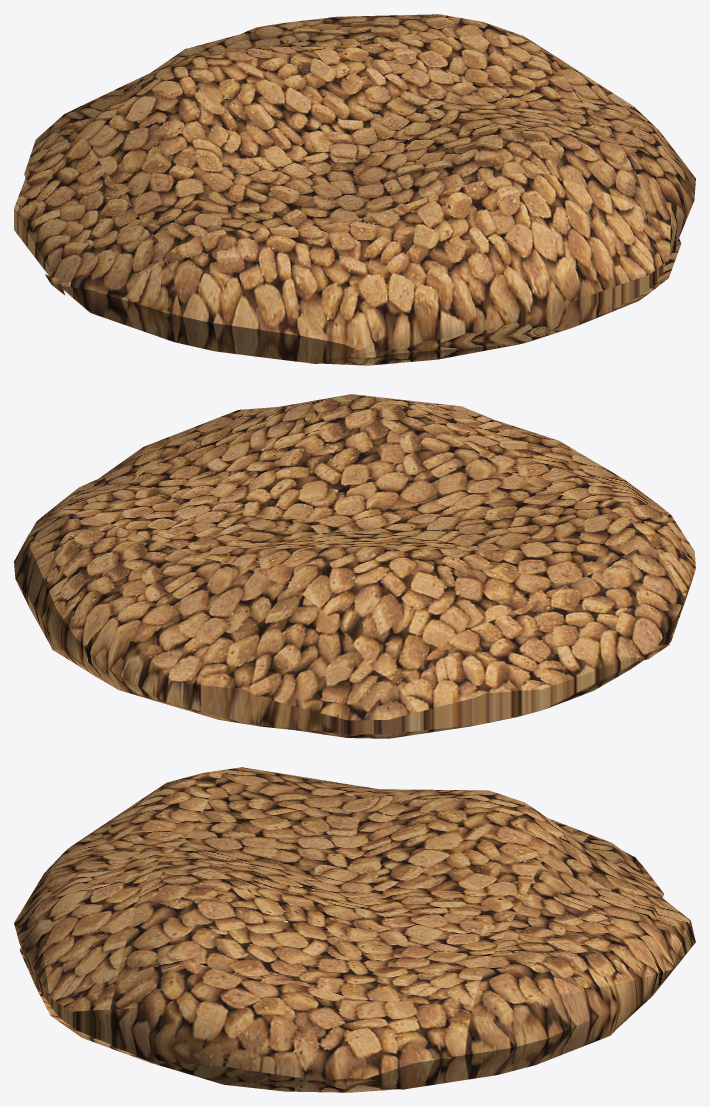
The model's file is CatDryFood.fbx.
The picture shows the model from 3 angles, top to bottom: view 1: azimuth 30°, elevation 25°; view 2: azimuth 150°, elevation 25°; view 3: azimuth 270°, elevation 25°; orthographic projection. The views are drawn at different scales.
Visible parts, largest first — view 1: pPlatonic1; view 2: pPlatonic1; view 3: pPlatonic1.
Part boxes in pixels (<box>): pPlatonic1: <box>14,14,695,365</box>; pPlatonic1: <box>14,394,695,738</box>; pPlatonic1: <box>14,767,695,1092</box>.
Size of the model in its own units: 11.73 by 2.87 by 11.86.
Materials: 1 (1 with a texture image).
